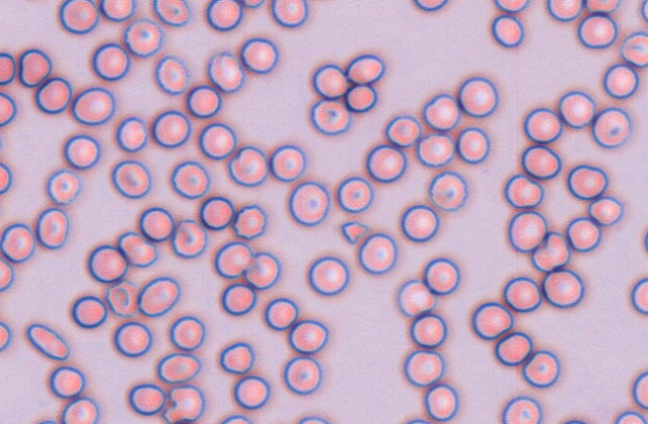RBC: (288, 180, 330, 226), (136, 276, 180, 317), (227, 145, 268, 186), (357, 232, 397, 274), (507, 210, 547, 252), (307, 255, 349, 295), (592, 106, 632, 148), (72, 86, 115, 125), (25, 322, 69, 360), (458, 76, 498, 117), (471, 301, 513, 340), (542, 269, 584, 308), (531, 231, 570, 272), (403, 348, 444, 387), (428, 170, 467, 211), (123, 18, 163, 57), (87, 244, 127, 283), (170, 160, 210, 199), (111, 159, 151, 198), (206, 51, 244, 92), (365, 144, 406, 182), (521, 349, 560, 388), (283, 355, 322, 394), (152, 109, 191, 148), (566, 164, 608, 200), (396, 279, 435, 317), (214, 240, 253, 278), (400, 204, 439, 242), (92, 42, 130, 81), (117, 230, 157, 267), (577, 11, 617, 48), (288, 318, 329, 354), (422, 93, 460, 131), (171, 218, 207, 258), (310, 99, 350, 135), (35, 207, 69, 249), (558, 90, 595, 128), (198, 122, 236, 159), (269, 144, 306, 182), (113, 321, 152, 357), (523, 107, 562, 143), (521, 144, 561, 179), (0, 222, 35, 262), (156, 352, 201, 383), (58, 0, 99, 34), (336, 176, 373, 213), (244, 251, 280, 289), (503, 276, 541, 312), (423, 257, 459, 295), (240, 37, 278, 73), (504, 173, 543, 208), (154, 55, 189, 94), (409, 312, 446, 348), (311, 63, 348, 99), (35, 76, 71, 113), (494, 331, 532, 366), (423, 383, 458, 421), (416, 132, 454, 167), (46, 168, 81, 205), (63, 134, 100, 169), (18, 48, 51, 87), (169, 315, 205, 350), (566, 216, 601, 252), (603, 63, 638, 99), (233, 375, 270, 409), (455, 126, 489, 163), (139, 206, 174, 241), (232, 203, 266, 239), (105, 280, 138, 317), (128, 383, 166, 415), (186, 84, 221, 118), (199, 196, 234, 230), (220, 282, 256, 315), (49, 365, 85, 398), (71, 295, 107, 328), (385, 114, 421, 147), (115, 116, 148, 152), (346, 53, 384, 84), (219, 341, 254, 374), (501, 395, 542, 423), (205, 0, 242, 31), (264, 297, 298, 330), (491, 14, 524, 47), (60, 396, 99, 423), (588, 196, 623, 225), (271, 0, 308, 27), (620, 31, 647, 67), (152, 0, 189, 26), (345, 84, 377, 112), (546, 0, 582, 21), (99, 0, 135, 21), (630, 277, 647, 314), (632, 370, 647, 409), (0, 91, 16, 126), (0, 52, 15, 85), (0, 257, 14, 291), (494, 0, 529, 13), (613, 410, 647, 423), (585, 0, 619, 13), (412, 0, 447, 11), (0, 162, 12, 194), (0, 321, 11, 352), (218, 414, 252, 423), (296, 415, 331, 423), (241, 0, 264, 8), (403, 417, 432, 423), (641, 0, 648, 23), (559, 418, 588, 423), (643, 227, 648, 254), (33, 418, 58, 423), (0, 292, 5, 316), (0, 198, 3, 223), (0, 132, 3, 155)
Schistocyte: (165, 386, 205, 421), (342, 221, 368, 244)
